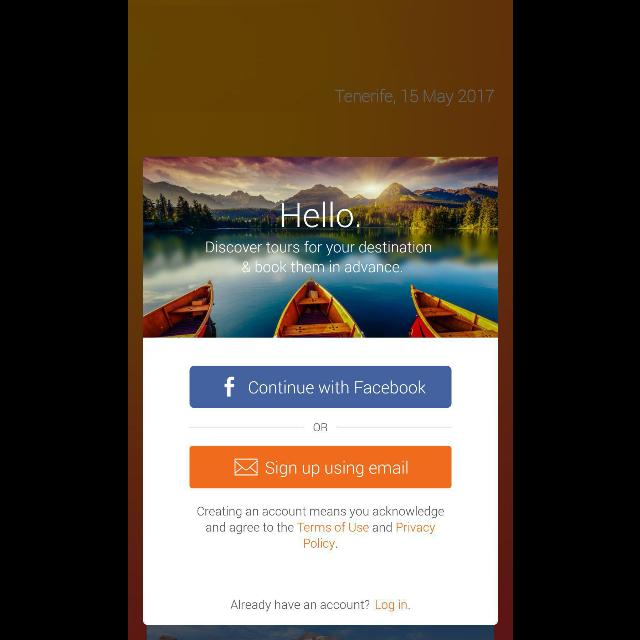image: (142, 157, 498, 337)
panel: (142, 157, 498, 625)
text: (196, 506, 444, 550), (205, 241, 431, 273), (334, 89, 494, 107), (230, 599, 408, 611), (281, 202, 359, 228), (313, 422, 327, 432)
textbutton: (189, 446, 451, 488), (189, 366, 451, 408)
